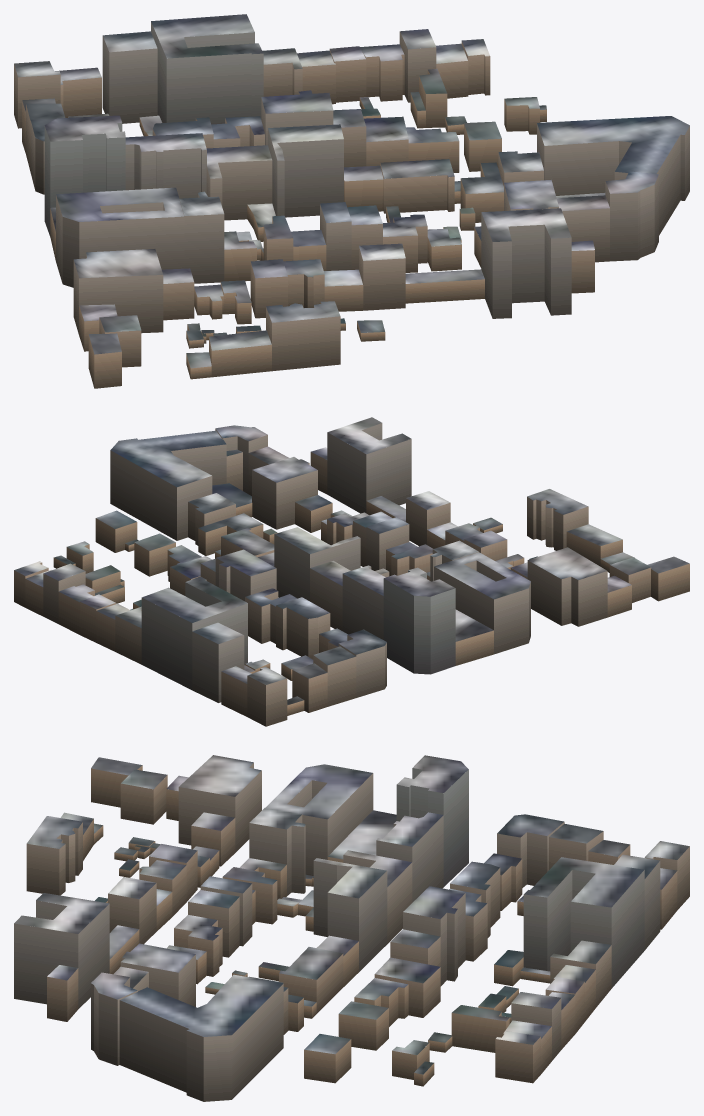
3 views of the same model, one above another, from view 1: azimuth 30°, elevation 25°; view 2: azimuth 150°, elevation 25°; view 3: azimuth 270°, elevation 25° (orthographic). The views are drawn at different scales.
Bounding box in the file's own units: 187 × 26.34 × 172.
2 materials, 2 textured.
